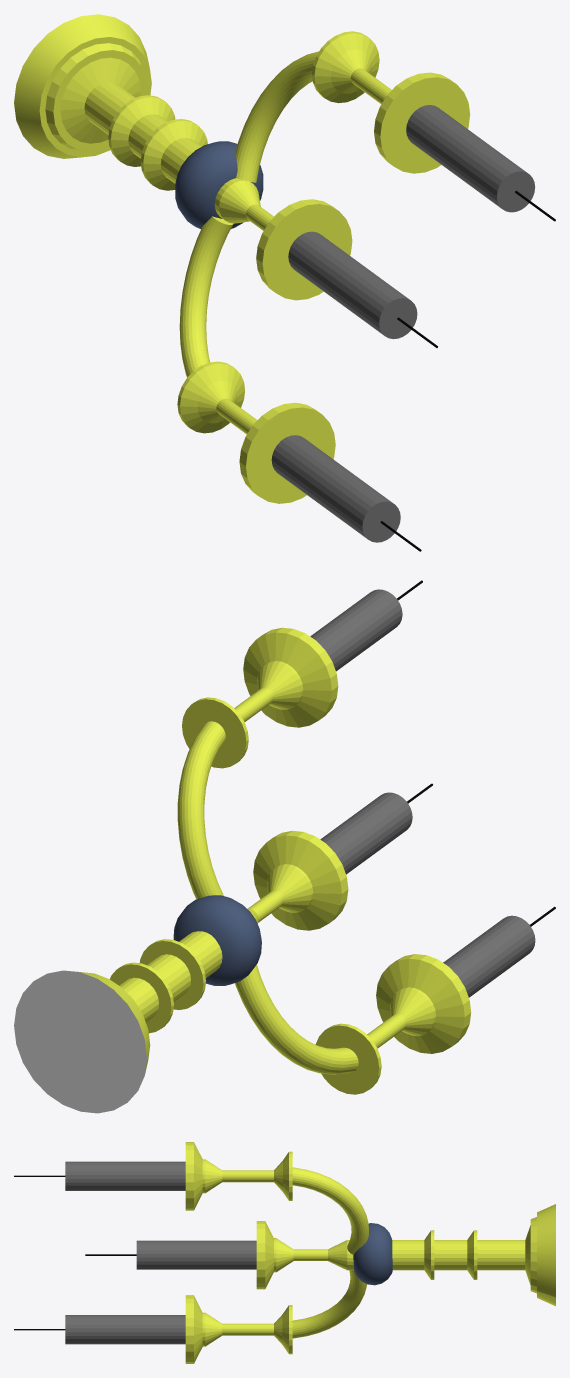
The model's file is CandelabroMesa.fbx.
The picture shows the model from 3 angles, top to bottom: view 1: azimuth 30°, elevation 25°; view 2: azimuth 150°, elevation 25°; view 3: azimuth 270°, elevation 25°; orthographic projection. The views are drawn at different scales.
Parts seen in each view (by area): view 1: Model; view 2: Model; view 3: Model.
Part boxes in pixels (left/top/right/bottom): Model: left=14, top=14, right=555, bottom=551; Model: left=14, top=580, right=555, bottom=1113; Model: left=14, top=1142, right=555, bottom=1363.
Size of the model in its own units: 0.1997 by 0.3331 by 0.6319.
